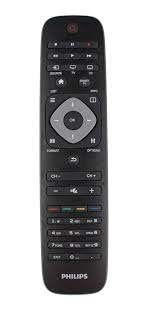remote control: (35, 17, 113, 291)
